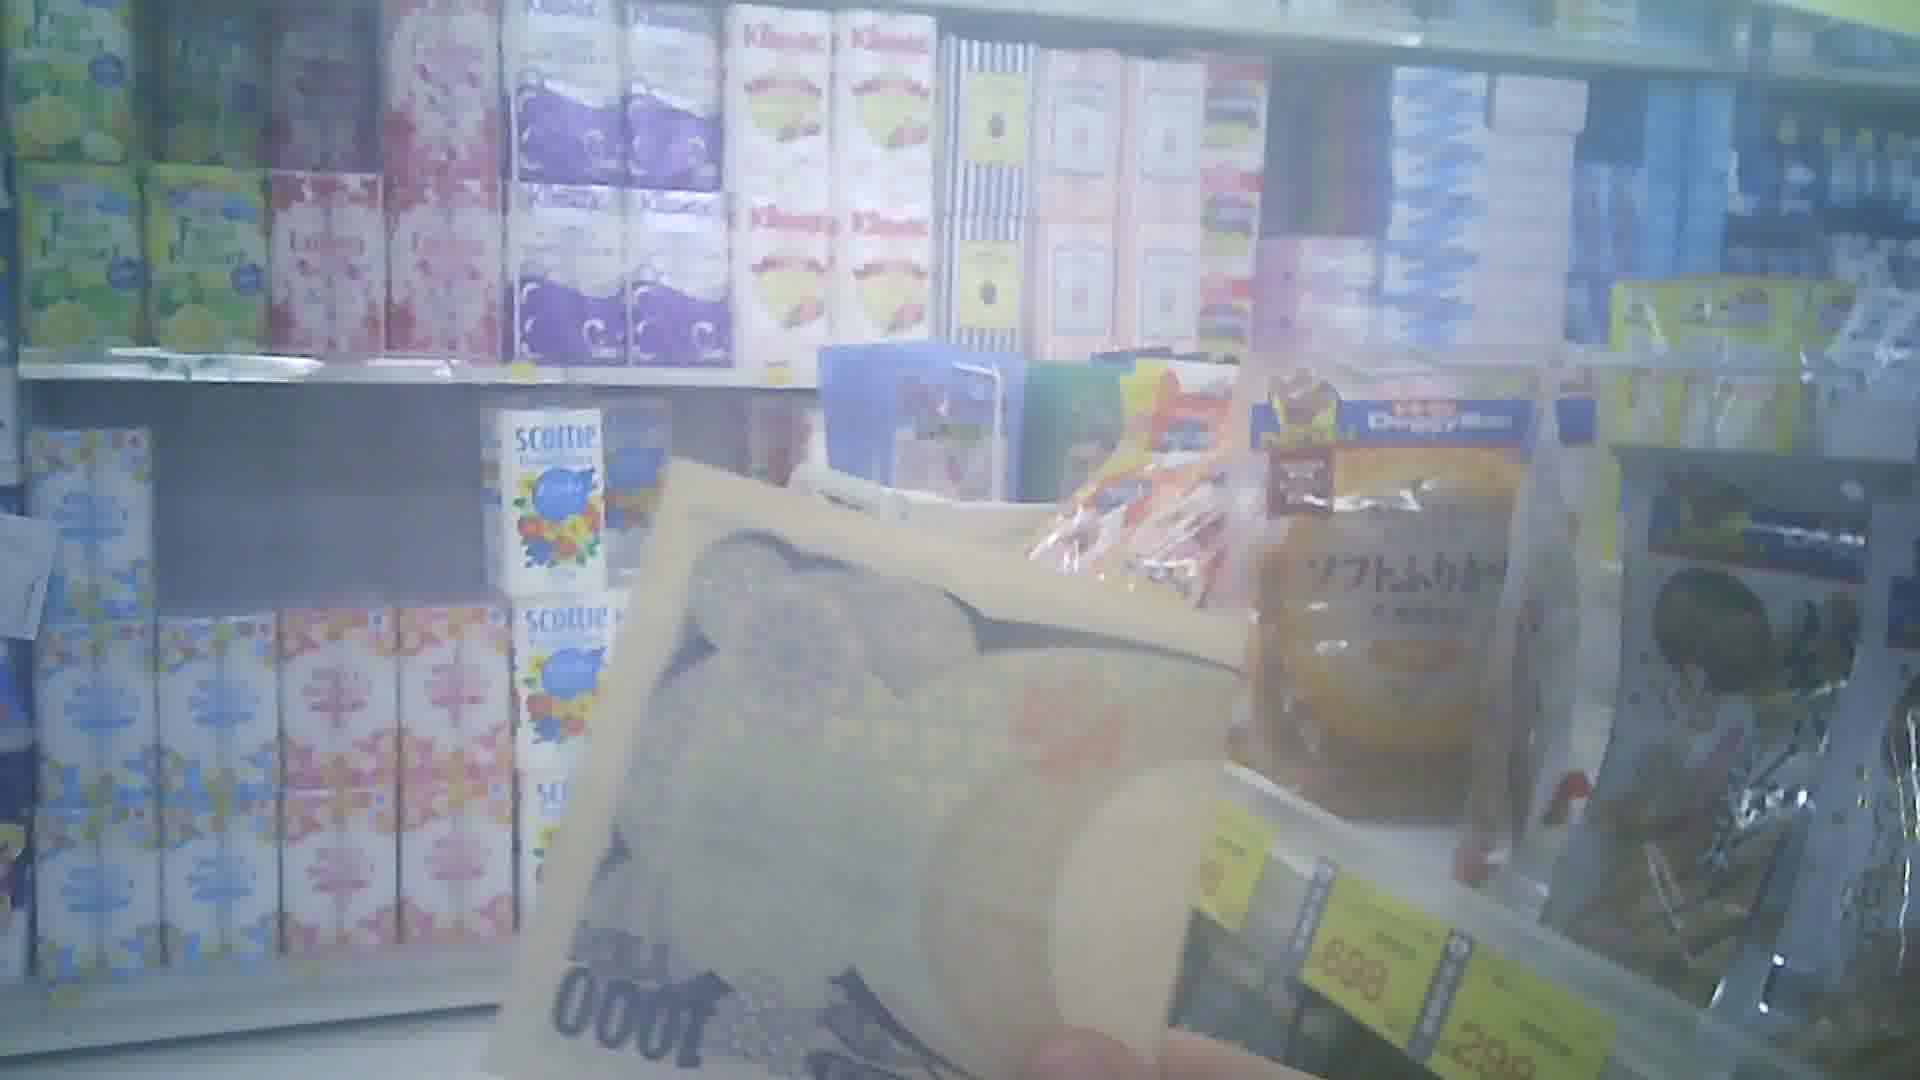1,000 Yen: (514, 460, 1197, 1073)
